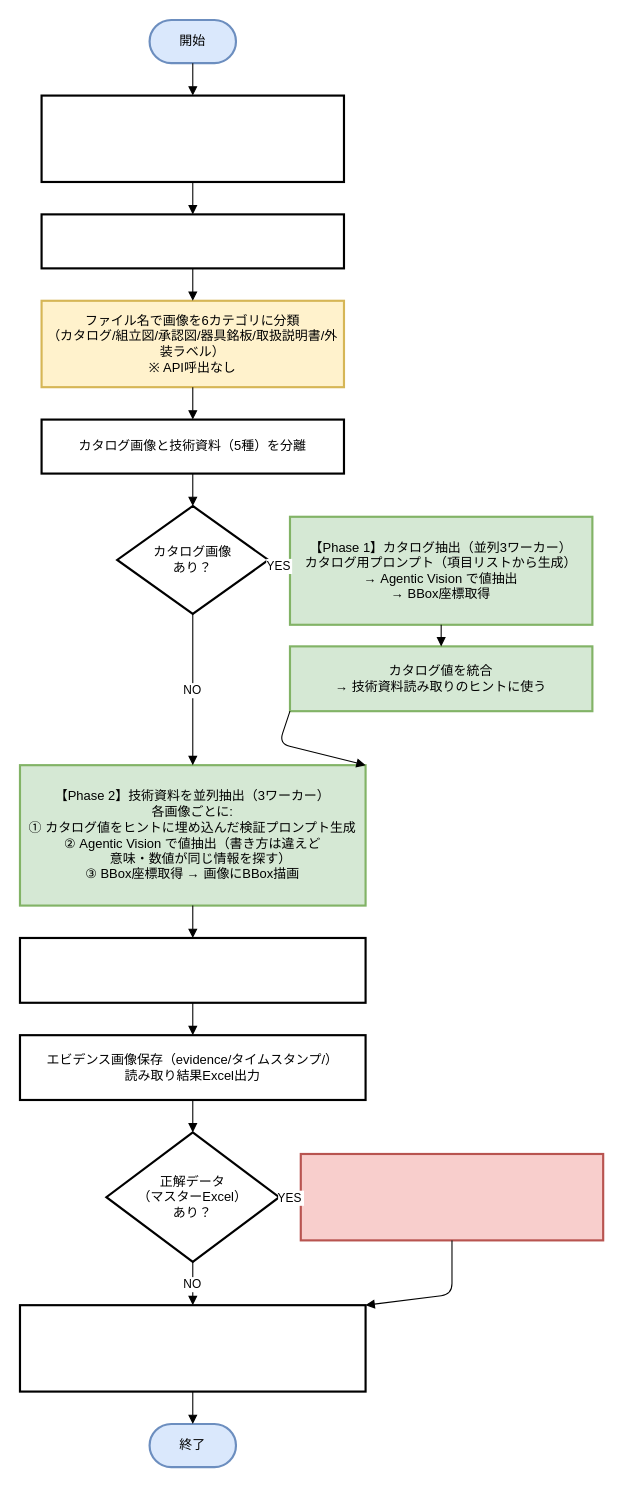
The diagram is 622 pixels wide and 1486 high, and some of its shapes have lost their labels. The box of each missing label's shape, as (x1, y1, x2, y2) in pixels:
PDFがあれば各ページを画像に変換: (40, 213, 345, 269)
同一文書種別の複数ページを1エントリに統合 （コンフリクト時はカタログヒントで解決）: (18, 936, 366, 1003)
正解データと照合 OK / NG / 部分一致 / 対象外 を判定 正誤結果Excel出力: (299, 1152, 604, 1241)
結果を画面に表示 分類結果 + BBox付き画像 + 照合マトリクス + 正誤結果テーブル + ダウンロードボタン: (18, 1304, 366, 1392)
項目リスト（CSV/Excel）と 資料画像（PNG/JPEG/PDF）をアップロード →「抽出実行」ボタン: (40, 94, 345, 183)
